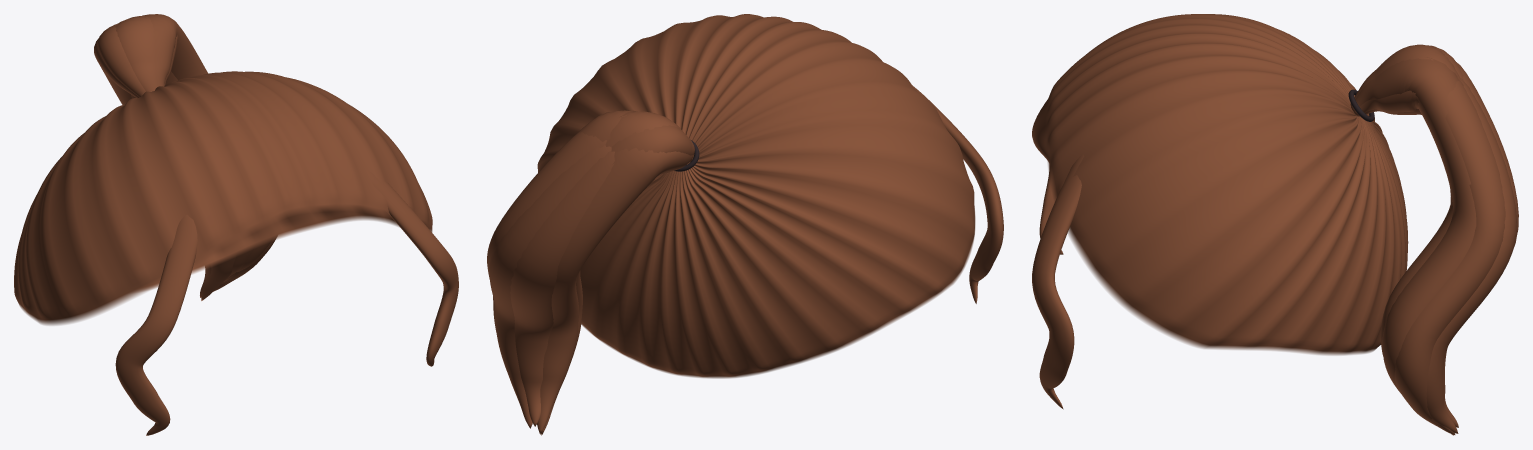
File: Feminine-ponytail-hair.glb
3 renders of one model, left to right at view 1: azimuth 30°, elevation 25°; view 2: azimuth 150°, elevation 25°; view 3: azimuth 270°, elevation 25°, orthographic. The views are drawn at different scales.
Parts seen in each view (by area): view 1: Hair / softly pulled roots214, Hair / rooted framing214 -1, Hair / rooted framing214 1, Hair / selectable tail214 1, Hair / selectable tail214 2, Hair / selectable tail214 3, Hair / selectable tail214 4, Hair / selectable tail214 0; view 2: Hair / softly pulled roots214, Hair / selectable tail214 4, Hair / selectable tail214 5, Hair / selectable tail214 6, Hair / rooted framing214 -1, Hair / selectable tail214 0, Hair / selectable tail214 3, Hair / selectable tail214 2, Hair / selectable tail214 1; view 3: Hair / softly pulled roots214, Hair / selectable tail214 0, Hair / selectable tail214 1, Hair / rooted framing214 1, Hair / selectable tail214 6, Hair / selectable tail214 2, Hair / rooted framing214 -1, Hair / selectable tail214 5.
Part boxes in pixels (x1,y1,x2,y2): Hair / softly pulled roots214: (14, 71, 432, 325); Hair / rooted framing214 -1: (115, 214, 197, 435); Hair / rooted framing214 1: (366, 170, 458, 366); Hair / selectable tail214 1: (142, 14, 273, 272); Hair / selectable tail214 2: (115, 16, 256, 277); Hair / selectable tail214 3: (97, 24, 236, 300); Hair / selectable tail214 4: (94, 38, 211, 297); Hair / selectable tail214 0: (164, 35, 277, 291); Hair / softly pulled roots214: (537, 14, 975, 378); Hair / selectable tail214 4: (537, 148, 693, 434); Hair / selectable tail214 5: (510, 151, 671, 426); Hair / selectable tail214 6: (489, 145, 611, 428); Hair / rooted framing214 -1: (911, 84, 1003, 303); Hair / selectable tail214 0: (487, 132, 606, 331); Hair / selectable tail214 3: (541, 125, 694, 435); Hair / selectable tail214 2: (605, 111, 682, 147); Hair / selectable tail214 1: (575, 110, 635, 141); Hair / softly pulled roots214: (1045, 14, 1408, 355); Hair / selectable tail214 0: (1354, 77, 1505, 434); Hair / selectable tail214 1: (1351, 57, 1476, 391); Hair / rooted framing214 1: (1032, 154, 1084, 409); Hair / selectable tail214 6: (1359, 78, 1516, 433); Hair / selectable tail214 2: (1350, 44, 1461, 355); Hair / rooted framing214 -1: (1032, 99, 1063, 254); Hair / selectable tail214 5: (1443, 78, 1518, 427).
Bounding box in the file's own units: 0.9756 × 0.7834 × 0.9843.
